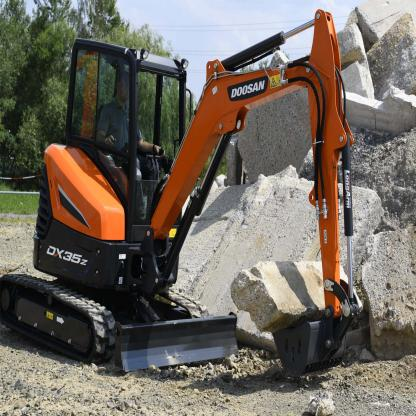excavator: (2, 6, 374, 378)
